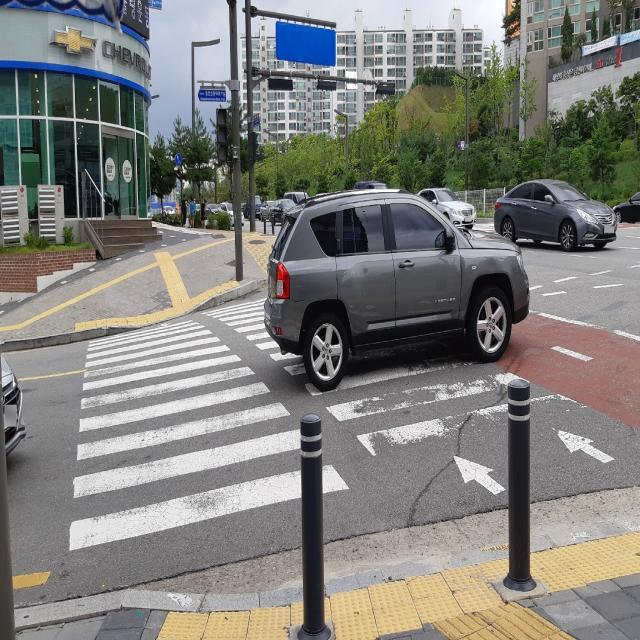횡단보도: (65, 287, 618, 560)
